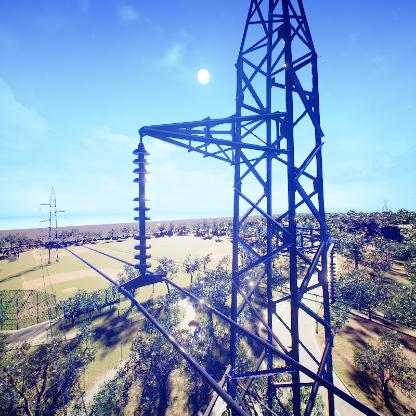insulator: (123, 141, 154, 274), (328, 248, 337, 303)
tower: (35, 186, 69, 265)
